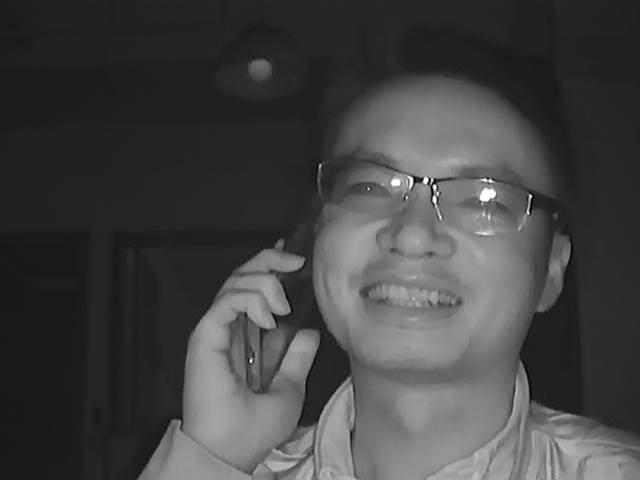hand: (182, 243, 323, 451)
